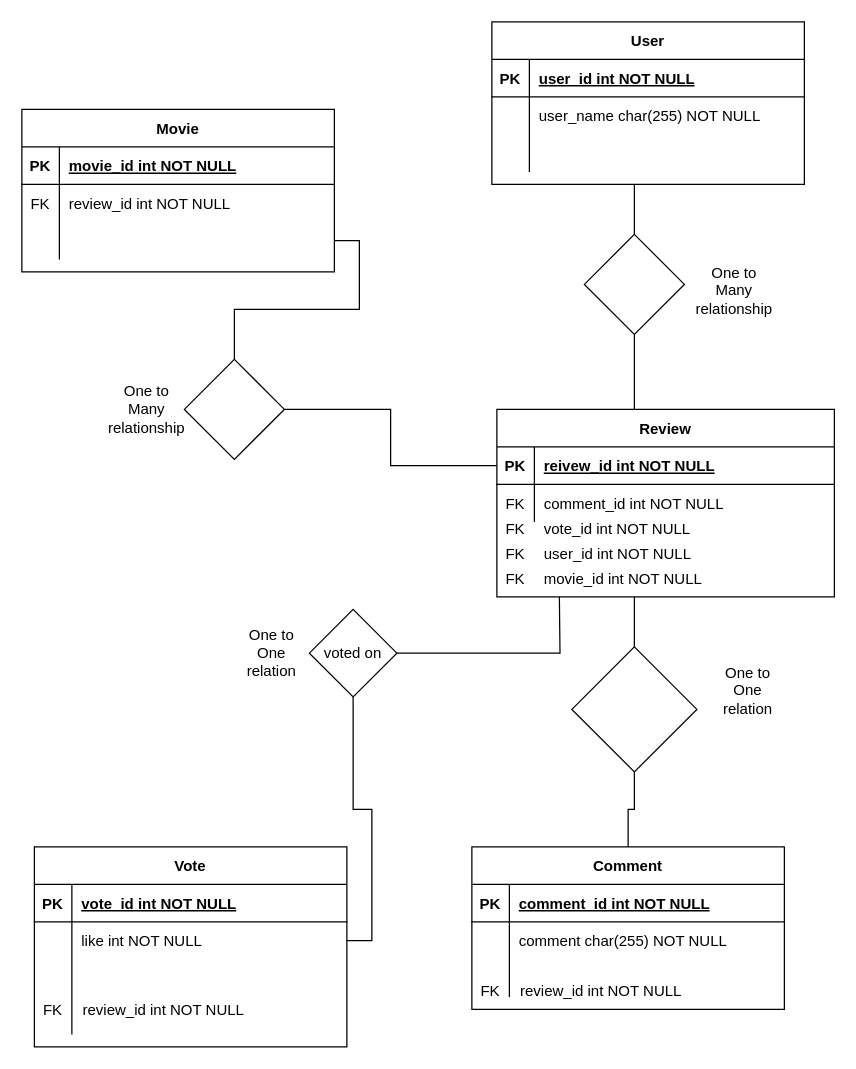
Image size: 856x1069. Some labels were removed from this diagram. Each missing label, with the box of its shape:
all reviews: (183, 358, 284, 459)
commented on: (571, 646, 697, 772)
writes: (583, 233, 684, 334)
